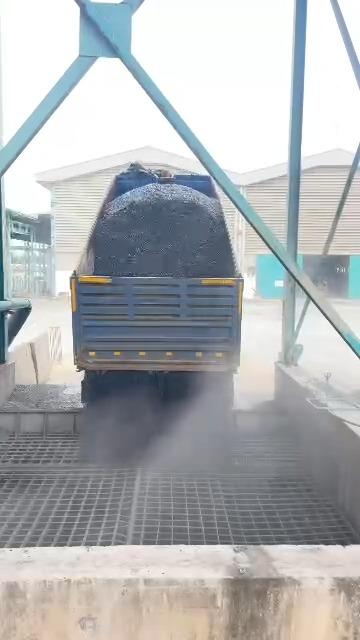gravel: (92, 183, 235, 277), (83, 372, 232, 461), (2, 384, 82, 412)
